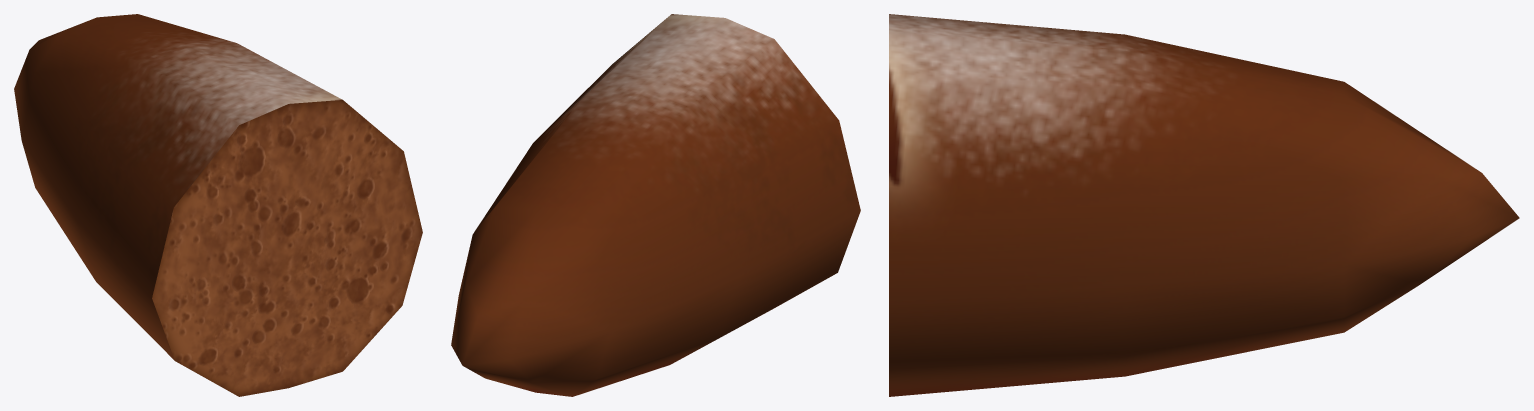
Rendered from Baguette_03_End.fbx.
The picture shows the model from 3 angles, left to right: view 1: azimuth 30°, elevation 25°; view 2: azimuth 150°, elevation 25°; view 3: azimuth 270°, elevation 25°; orthographic projection. The views are drawn at different scales.
Parts seen in each view (by area): view 1: Baguette_03_End; view 2: Baguette_03_End; view 3: Baguette_03_End.
Boxes of the visible parts, x1,y1,x2,y2 form: Baguette_03_End: [14, 14, 422, 396]; Baguette_03_End: [451, 14, 860, 396]; Baguette_03_End: [889, 14, 1519, 396].
Bounding box in the file's own units: 17.93 × 17.98 × 30.43.
